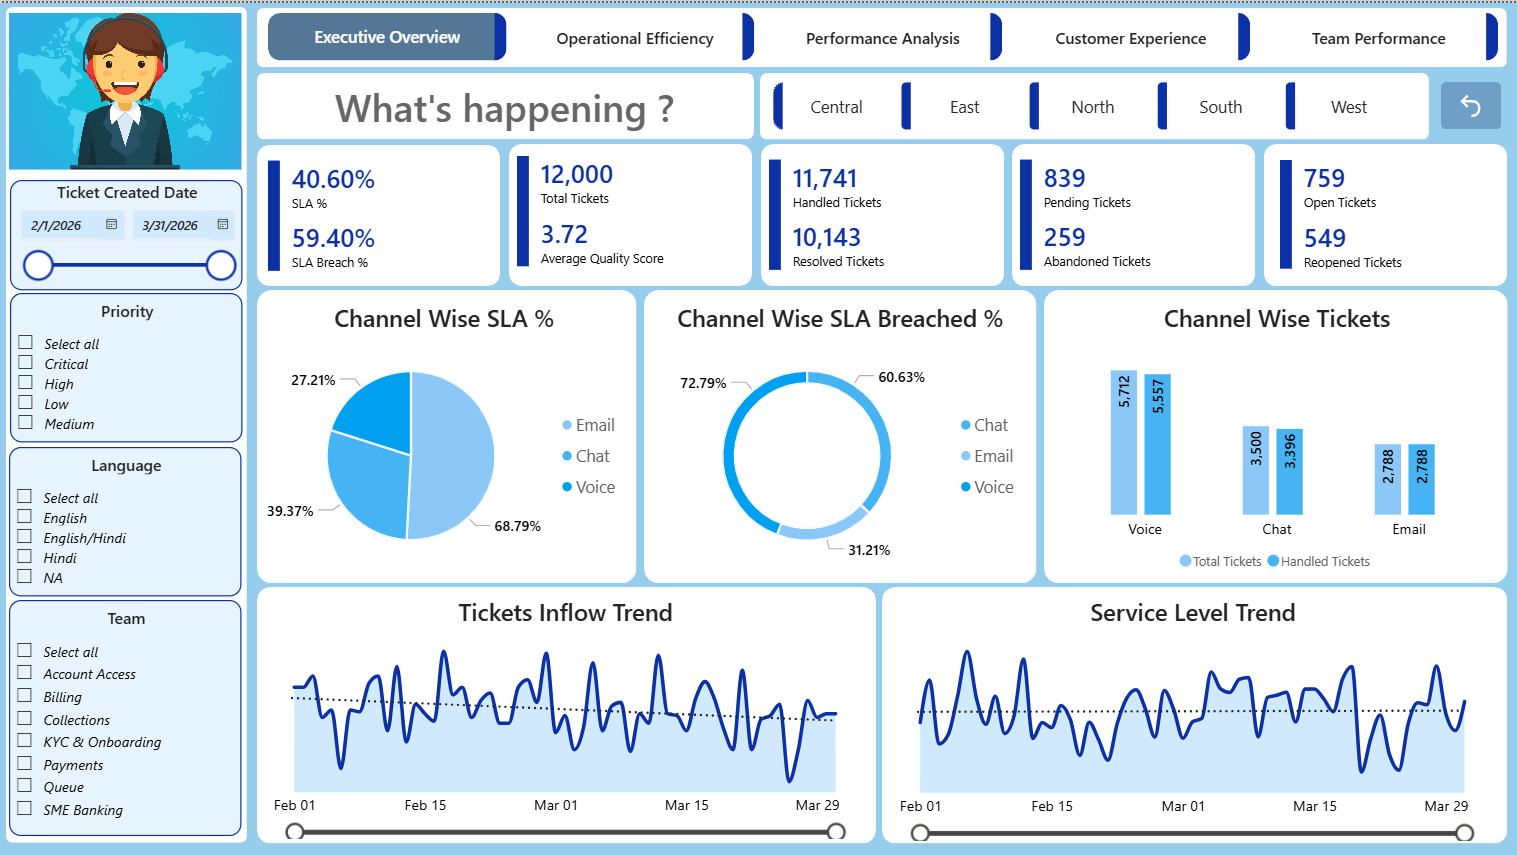

The dashboard page shown, as its layout file describes it:
{"tool":"powerbi","page":{"name":"Executive Overview","canvas":[1280,720],"ordinal":1},"visuals":[{"type":"shape","box":[5.4,3.6,203.1,704.6],"z":0,"group":"g14"},{"type":"shape","box":[216.7,4.5,1053.7,49.9],"z":0,"group":"g12"},{"type":"shape","box":[216.7,58.9,418.9,55.9],"z":0,"group":"g11"},{"type":"shape","box":[641.1,58.9,564,56.2],"z":0,"group":"g13"},{"type":"shape","box":[429.1,118.9,204.9,119.7],"z":0,"group":"g2"},{"type":"shape","box":[641.2,119.1,205,120],"z":0,"group":"g3"},{"type":"shape","box":[853.5,119.1,205,120],"z":0,"group":"g4"},{"type":"shape","box":[1065.8,119.1,205,120],"z":0,"group":"g5"},{"type":"group","id":"g1","title":"SLA & Avg Q Score ","box":[216.7,119.7,204.9,118.9],"z":0},{"type":"shape","box":[216.7,119.7,204.9,118.9],"z":0,"group":"g1"},{"type":"shape","box":[216.4,241.7,320,247.3],"z":0,"group":"g6"},{"type":"shape","box":[542.7,241.7,330.9,247.3],"z":0,"group":"g7"},{"type":"shape","box":[880,241.7,390.9,247.3],"z":0,"group":"g8"},{"type":"shape","box":[216.4,492.7,521.8,216.4],"z":0,"group":"g9"},{"type":"shape","box":[743.6,492.7,527.3,216.4],"z":0,"group":"g10"},{"type":"pageNavigator","box":[225.8,9,1040.1,40.8],"z":1000,"group":"g12"},{"type":"textbox","box":[220.5,65.1,410.8,42.8],"z":1000,"group":"g11"},{"type":"advancedSlicerVisual","fields":{"Values":["Call_Center_View.Customer_Region"]},"box":[651.1,65.2,543.2,42.6],"z":1000,"group":"g13"},{"type":"group","id":"g2","title":"Total Tickets & AHT","box":[429.1,118.9,204.9,119.7],"z":1000},{"type":"multiRowCard","fields":{"Values":["Measures Table.Total Tickets","Measures Table.Average Quality Score"]},"box":[436,128.9,189.9,99.8],"z":1000,"group":"g2"},{"type":"multiRowCard","fields":{"Values":["Measures Table.Handled Tickets","Measures Table.Resolved Tickets"]},"box":[648.1,129.1,190,100],"z":1000,"group":"g3"},{"type":"multiRowCard","fields":{"Values":["Measures Table.Pending Tickets","Measures Table.Abandoned Tickets"]},"box":[860.4,129.1,190,100],"z":1000,"group":"g4"},{"type":"multiRowCard","fields":{"Values":["Measures Table.Open Tickets","Measures Table.Reopened Tickets"]},"box":[1079,129.1,186.6,98.2],"z":1000,"group":"g5"},{"type":"multiRowCard","fields":{"Values":["Measures Table.SLA %","Measures Table.SLA Breach %"]},"box":[225.9,129.6,189.9,99.1],"z":1000,"group":"g1"},{"type":"pieChart","title":"Channel Wise SLA %","fields":{"Category":["Call_Center_View.Channel"],"Y":["Measures Table.SLA %"]},"box":[220.9,250.8,307.3,231.8],"z":1000,"group":"g6"},{"type":"donutChart","title":"Channel Wise SLA Breached %","fields":{"Category":["Call_Center_View.Channel"],"Y":["Measures Table.SLA Breach %"]},"box":[552.7,250.8,310.9,231.8],"z":1000,"group":"g7"},{"type":"clusteredColumnChart","title":"Channel Wise Tickets","fields":{"Category":["Call_Center_View.Channel"],"Y":["Measures Table.Total Tickets","Measures Table.Handled Tickets"]},"box":[891.8,250.8,369.4,231.8],"z":1000,"group":"g8"},{"type":"listSlicer","fields":{"Values":["Call_Center_View.Language"]},"box":[8.3,374.5,195.9,126],"z":1000,"group":"g14"},{"type":"lineChart","title":"Tickets Inflow Trend","fields":{"Category":["Date_Table.Date.Variation.Date Hierarchy.Year","Date_Table.Date.Variation.Date Hierarchy.Quarter","Date_Table.Date.Variation.Date Hierarchy.Month","Date_Table.Date.Variation.Date Hierarchy.Day"],"Y":["Measures Table.Total Tickets"]},"box":[220.1,499.1,513.5,206.4],"z":1000,"group":"g9"},{"type":"lineChart","title":"Service Level Trend","fields":{"Category":["Date_Table.Date.Variation.Date Hierarchy.Year","Date_Table.Date.Variation.Date Hierarchy.Quarter","Date_Table.Date.Variation.Date Hierarchy.Month","Date_Table.Date.Variation.Date Hierarchy.Day"],"Y":["Measures Table.SLA %"]},"box":[747.6,499.3,516,206.8],"z":1000,"group":"g10"},{"type":"group","id":"g3","title":"Handled & Resolved Tickets","box":[641.2,119.1,205,120],"z":2000},{"type":"slicer","title":"Ticket Created Date","fields":{"Values":["Call_Center_View.Created Date"]},"box":[8.4,149.2,195.6,92.7],"z":2000,"group":"g14"},{"type":"group","id":"g4","title":"Pending & Abandoned Tickets","box":[853.5,119.1,205,120],"z":3000},{"type":"listSlicer","fields":{"Values":["Call_Center_View.Team"]},"box":[8.3,503.6,195.9,198.6],"z":3000,"group":"g14"},{"type":"group","id":"g5","title":"Open & Reopened Tickets","box":[1065.8,119.1,205,120],"z":4000},{"type":"listSlicer","fields":{"Values":["Call_Center_View.Priority"]},"box":[8.5,245,195.6,126.5],"z":4000,"group":"g14"},{"type":"image","box":[8.1,9,195.9,132.4],"z":5000,"group":"g14"},{"type":"group","id":"g6","title":"Channel Wise SLA","box":[216.4,241.7,320,247.3],"z":5000},{"type":"group","id":"g7","title":"Channel Wise AHT","box":[542.7,241.7,330.9,247.3],"z":6000},{"type":"group","id":"g8","title":"Channel Wise Tickets","box":[880,241.7,390.9,247.3],"z":7000},{"type":"group","id":"g9","title":"Tickets Inflow Trend","box":[216.4,492.7,521.8,216.4],"z":8000},{"type":"group","id":"g10","title":"Service Level Trend","box":[743.6,492.7,527.3,216.4],"z":9000},{"type":"group","id":"g11","title":"What's happening ?","box":[216.7,58.9,418.9,55.3],"z":10000},{"type":"group","id":"g12","title":"Page Navigator","box":[216.7,4.5,1053.7,49.9],"z":11000},{"type":"group","id":"g13","title":"Customer Region","box":[641.1,58.9,564,56.2],"z":12000},{"type":"actionButton","title":"Reset All Filters","box":[1215.1,66.2,50.8,39.9],"z":13000},{"type":"group","id":"g14","title":"Left Filter Pane","box":[5.4,3.6,203.1,704.6],"z":14000}]}

Visuals, with their boxes in screenshot pixels (x1, y1, x2, y2), scaled from the page's 1280x720 canvas onto the 1517x855 screenshot:
shape: x1=6, y1=4, x2=247, y2=841
shape: x1=257, y1=5, x2=1506, y2=65
shape: x1=257, y1=70, x2=753, y2=136
shape: x1=760, y1=70, x2=1428, y2=137
shape: x1=509, y1=141, x2=751, y2=283
shape: x1=760, y1=141, x2=1003, y2=284
shape: x1=1012, y1=141, x2=1254, y2=284
shape: x1=1263, y1=141, x2=1506, y2=284
"SLA & Avg Q Score " group: x1=257, y1=142, x2=500, y2=283
shape: x1=257, y1=142, x2=500, y2=283
shape: x1=256, y1=287, x2=636, y2=581
shape: x1=643, y1=287, x2=1035, y2=581
shape: x1=1043, y1=287, x2=1506, y2=581
shape: x1=256, y1=585, x2=875, y2=842
shape: x1=881, y1=585, x2=1506, y2=842
pageNavigator: x1=268, y1=11, x2=1500, y2=59
textbox: x1=261, y1=77, x2=748, y2=128
advancedSlicerVisual - Call_Center_View.Customer_Region: x1=772, y1=77, x2=1415, y2=128
"Total Tickets & AHT" group: x1=509, y1=141, x2=751, y2=283
multiRowCard - Measures Table.Total Tickets x Measures Table.Average Quality Score: x1=517, y1=153, x2=742, y2=272
multiRowCard - Measures Table.Handled Tickets x Measures Table.Resolved Tickets: x1=768, y1=153, x2=993, y2=272
multiRowCard - Measures Table.Pending Tickets x Measures Table.Abandoned Tickets: x1=1020, y1=153, x2=1245, y2=272
multiRowCard - Measures Table.Open Tickets x Measures Table.Reopened Tickets: x1=1279, y1=153, x2=1500, y2=270
multiRowCard - Measures Table.SLA % x Measures Table.SLA Breach %: x1=268, y1=154, x2=493, y2=272
"Channel Wise SLA %" pieChart: x1=262, y1=298, x2=626, y2=573
"Channel Wise SLA Breached %" donutChart: x1=655, y1=298, x2=1024, y2=573
"Channel Wise Tickets" clusteredColumnChart: x1=1057, y1=298, x2=1495, y2=573
listSlicer - Call_Center_View.Language: x1=10, y1=445, x2=242, y2=594
"Tickets Inflow Trend" lineChart: x1=261, y1=593, x2=869, y2=838
"Service Level Trend" lineChart: x1=886, y1=593, x2=1498, y2=838
"Handled & Resolved Tickets" group: x1=760, y1=141, x2=1003, y2=284
"Ticket Created Date" slicer: x1=10, y1=177, x2=242, y2=287
"Pending & Abandoned Tickets" group: x1=1012, y1=141, x2=1254, y2=284
listSlicer - Call_Center_View.Team: x1=10, y1=598, x2=242, y2=834
"Open & Reopened Tickets" group: x1=1263, y1=141, x2=1506, y2=284
listSlicer - Call_Center_View.Priority: x1=10, y1=291, x2=242, y2=441
image: x1=10, y1=11, x2=242, y2=168
"Channel Wise SLA" group: x1=256, y1=287, x2=636, y2=581
"Channel Wise AHT" group: x1=643, y1=287, x2=1035, y2=581
"Channel Wise Tickets" group: x1=1043, y1=287, x2=1506, y2=581
"Tickets Inflow Trend" group: x1=256, y1=585, x2=875, y2=842
"Service Level Trend" group: x1=881, y1=585, x2=1506, y2=842
"What's happening ?" group: x1=257, y1=70, x2=753, y2=136
"Page Navigator" group: x1=257, y1=5, x2=1506, y2=65
"Customer Region" group: x1=760, y1=70, x2=1428, y2=137
"Reset All Filters" actionButton: x1=1440, y1=79, x2=1500, y2=126
"Left Filter Pane" group: x1=6, y1=4, x2=247, y2=841
